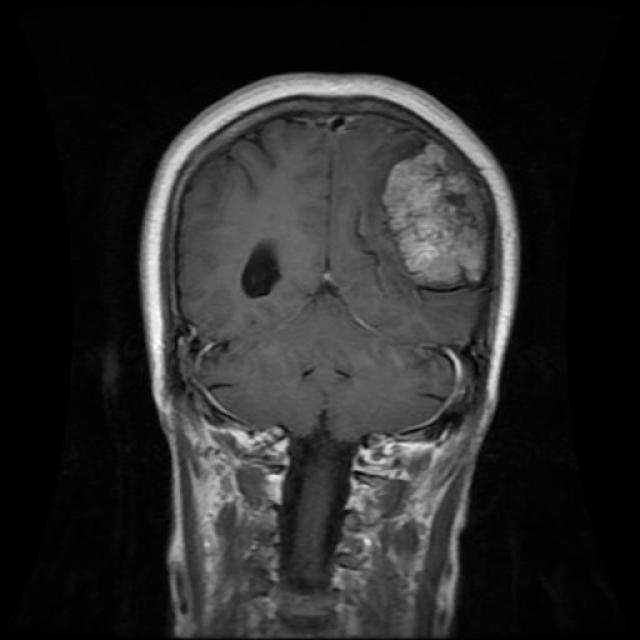meningioma: (381, 144, 491, 286)
